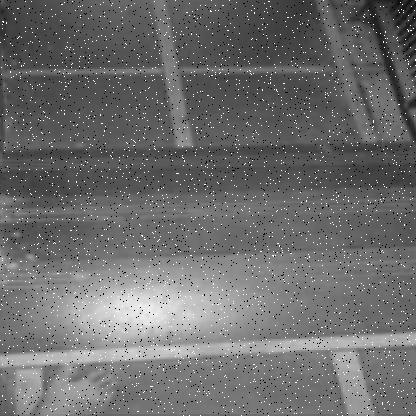stair_down: (114, 146, 343, 284)
